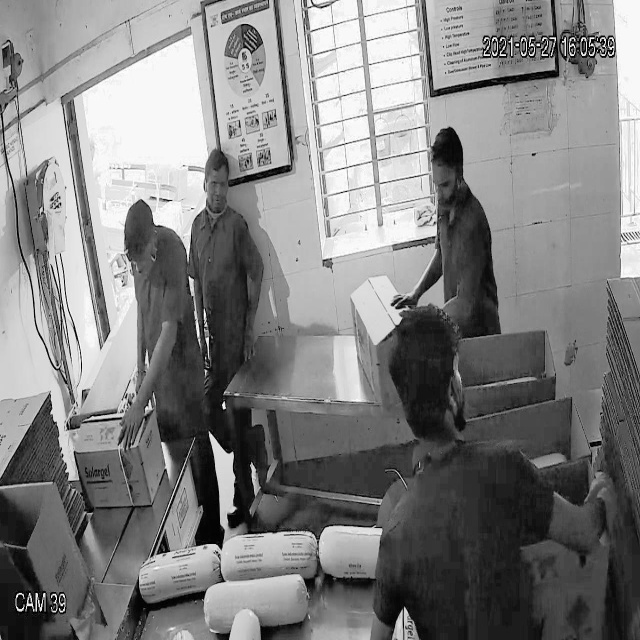Sin_gafas: (424, 164, 467, 198)
